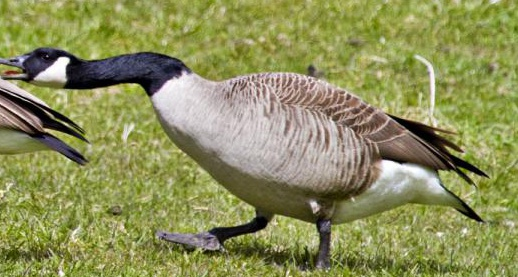goose: (2, 1, 497, 271)
